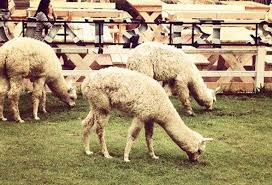alpaca: (79, 66, 214, 164), (124, 41, 217, 116), (1, 35, 77, 123)
